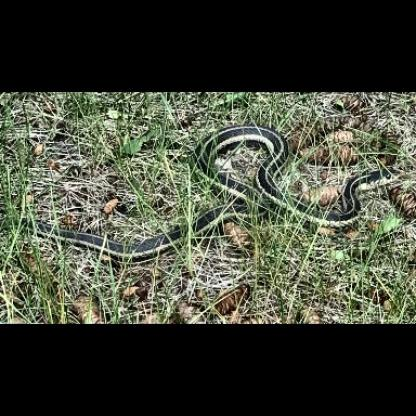Snake: (72, 126, 405, 266)
